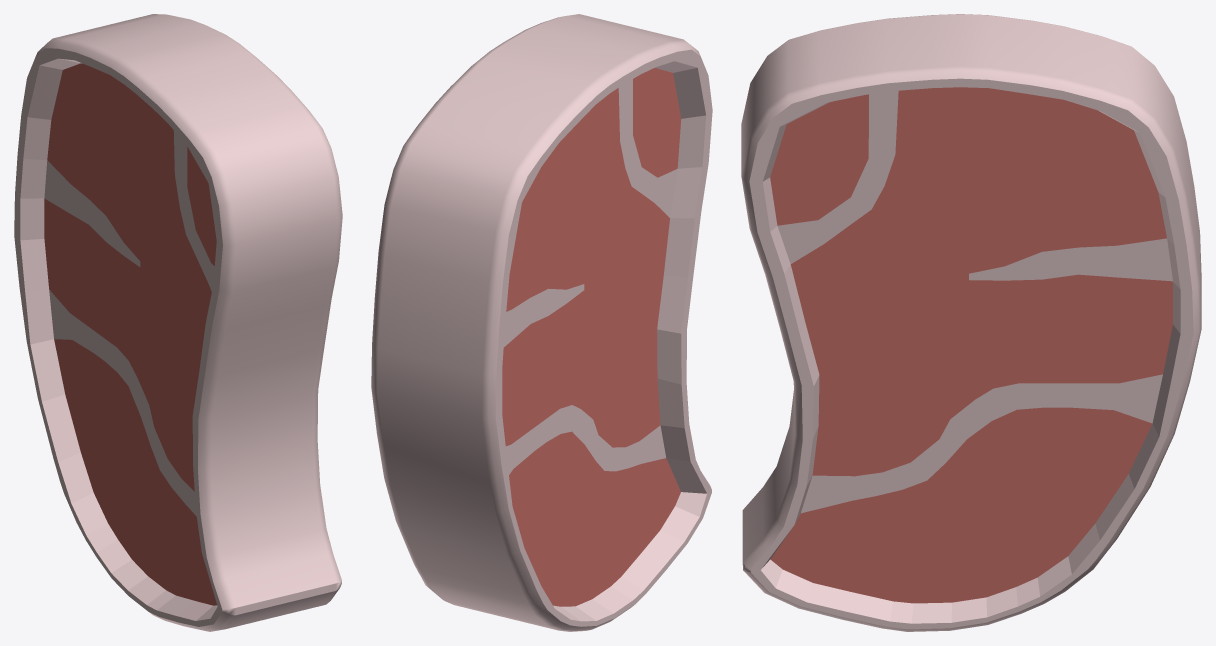
The model's file is meat.fbx.
3 renders of one model, left to right at view 1: azimuth 30°, elevation 25°; view 2: azimuth 150°, elevation 25°; view 3: azimuth 270°, elevation 25°, orthographic. The views are drawn at different scales.
Parts seen in each view (by area): view 1: meat; view 2: meat; view 3: meat.
Boxes of the visible parts, x1=… form: meat: x1=14, y1=14, x2=342, y2=631; meat: x1=371, y1=14, x2=712, y2=631; meat: x1=741, y1=14, x2=1201, y2=631.
Size of the model in its own units: 0.9653 by 4.09 by 3.02.
